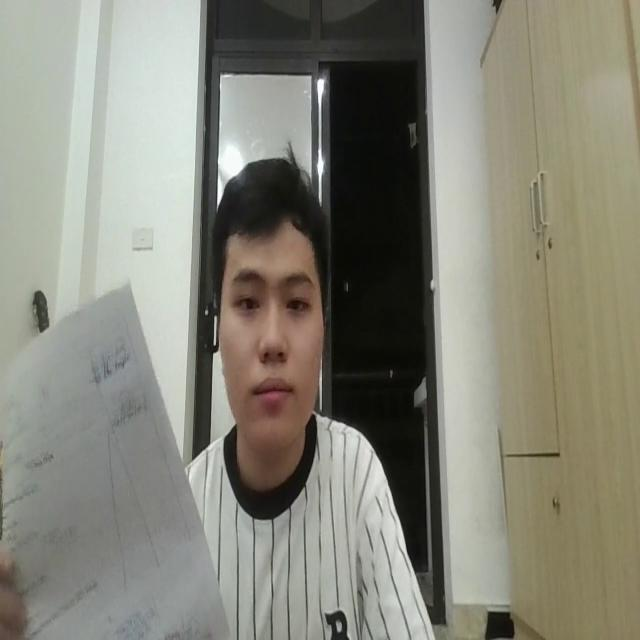book: (0, 280, 231, 640)
student: (180, 148, 433, 640)
